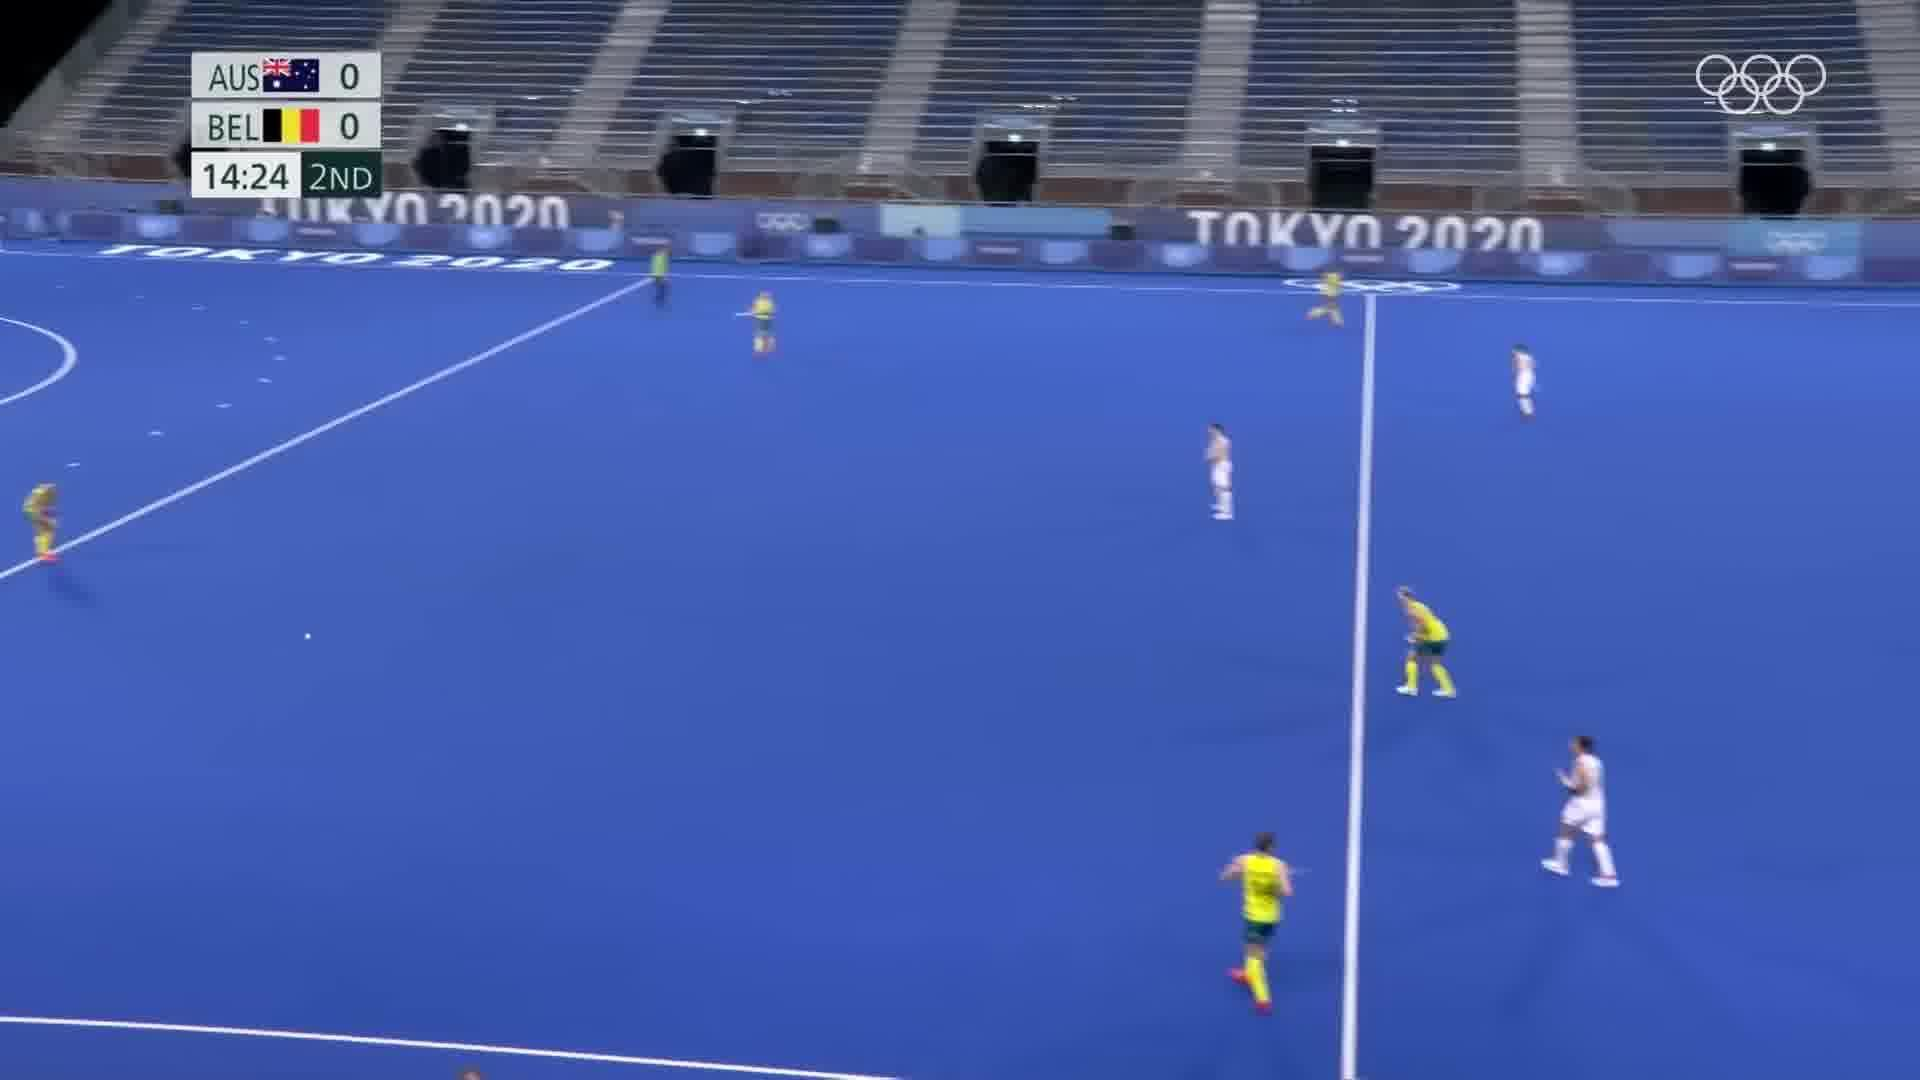ball: (299, 624, 320, 647)
